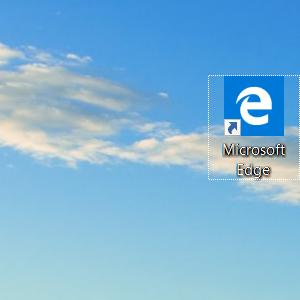edge: (224, 76, 284, 136)
